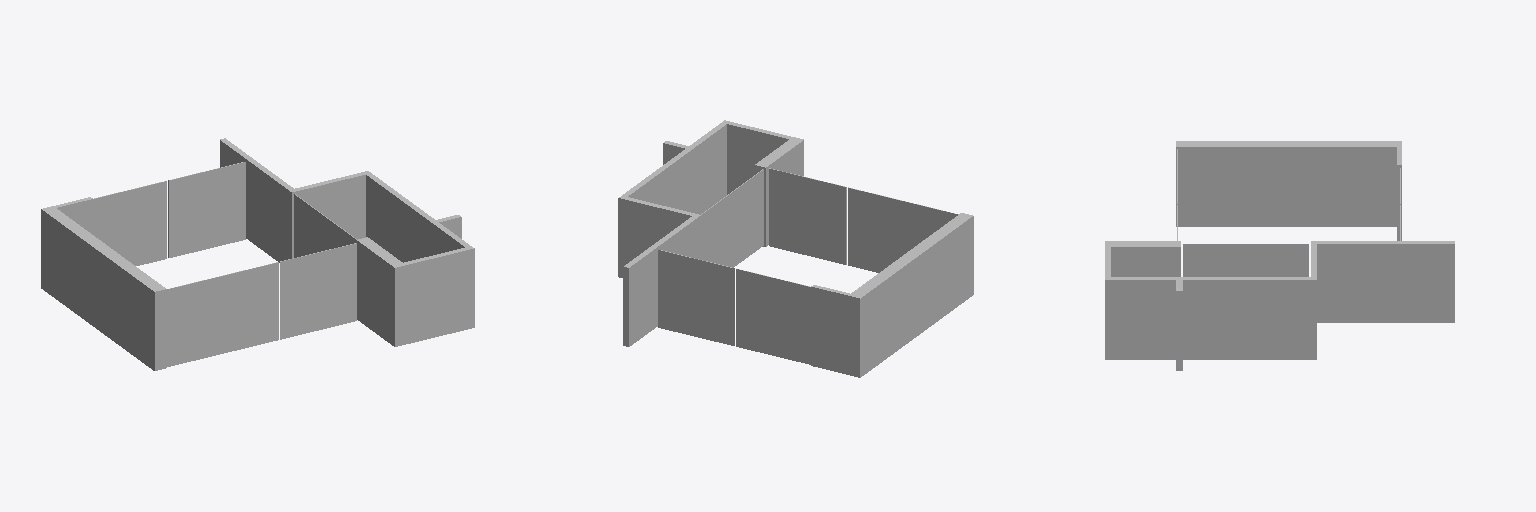
Rendered from door.obj.
The picture shows the model from 3 angles: view 1: azimuth 30°, elevation 25°; view 2: azimuth 150°, elevation 25°; view 3: azimuth 270°, elevation 25°; orthographic projection.
Parts seen in each view (by area): view 1: Rectangle001, Line001, Line002, Rectangle009, Rectangle006, Rectangle008, Rectangle007, Rectangle003, Rectangle032; view 2: Rectangle001, Line001, Line002, Rectangle008, Rectangle006, Rectangle007, Rectangle009, Rectangle003, Rectangle032; view 3: Line001, Rectangle001, Line002, Rectangle003.
Boxes of the visible parts, x1=… form: Rectangle001: x1=41, y1=206, x2=166, y2=370; Line001: x1=220, y1=138, x2=434, y2=262; Line002: x1=357, y1=215, x2=474, y2=346; Rectangle009: x1=167, y1=262, x2=278, y2=366; Rectangle006: x1=168, y1=162, x2=245, y2=257; Rectangle008: x1=280, y1=243, x2=356, y2=339; Rectangle007: x1=93, y1=181, x2=166, y2=265; Rectangle003: x1=294, y1=194, x2=356, y2=257; Rectangle032: x1=54, y1=197, x2=92, y2=234; Rectangle001: x1=848, y1=213, x2=973, y2=377; Line001: x1=618, y1=149, x2=700, y2=346; Line002: x1=663, y1=120, x2=803, y2=246; Rectangle008: x1=769, y1=168, x2=846, y2=264; Rectangle006: x1=658, y1=250, x2=734, y2=345; Rectangle007: x1=736, y1=269, x2=810, y2=364; Rectangle009: x1=848, y1=187, x2=958, y2=272; Rectangle003: x1=701, y1=169, x2=763, y2=267; Rectangle032: x1=811, y1=285, x2=849, y2=374; Line001: x1=1183, y1=241, x2=1454, y2=359; Rectangle001: x1=1176, y1=141, x2=1401, y2=226; Line002: x1=1105, y1=241, x2=1182, y2=370; Rectangle003: x1=1183, y1=244, x2=1308, y2=276.
Size of the model in its own units: 486 by 120 by 480.